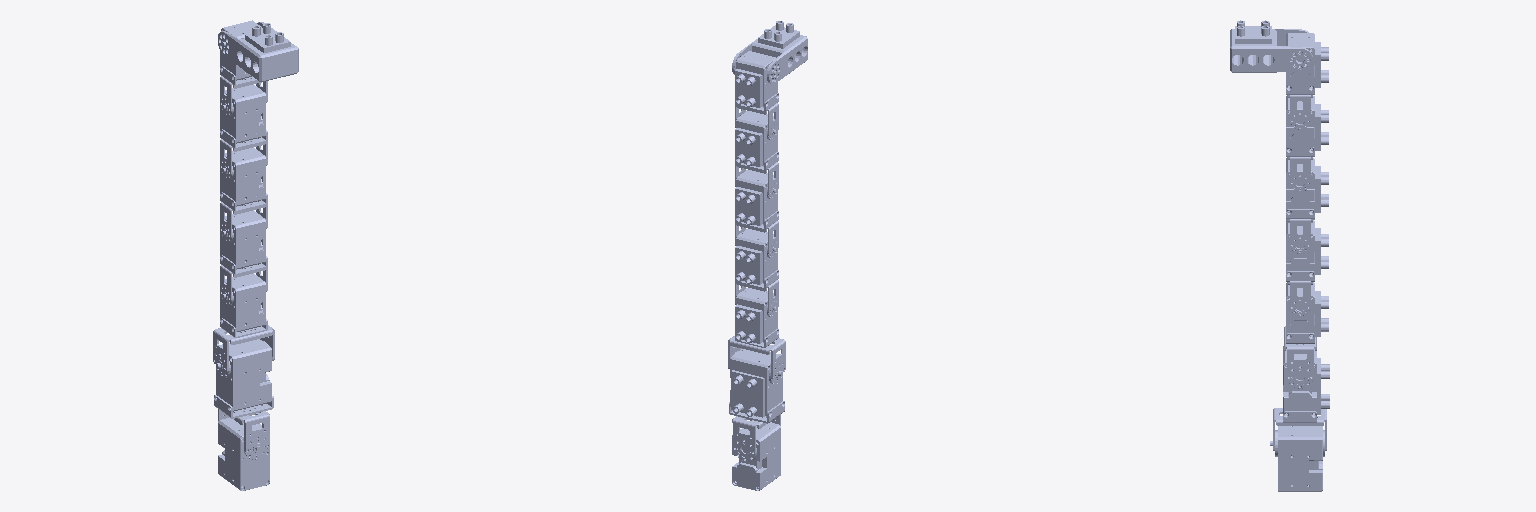
The robot description file, URDF, robot "Quadnake_Vertical_Leg":
<?xml version="1.0" encoding="utf-8"?>
<!-- This URDF was automatically created by SolidWorks to URDF Exporter! Originally created by [author] ([email redacted]) 
     Commit Version: 1.5.1-0-g916b5db  Build Version: 1.5.7152.31018
     For more information, please see http://wiki.ros.org/sw_urdf_exporter -->
<robot
  name="Quadnake_Vertical_Leg">
  <link
    name="base_link">
    <inertial>
      <origin
        xyz="-0.0057706 0.21609 0.054307"
        rpy="0 0 0" />
      <mass
        value="0.52162" />
      <inertia
        ixx="0.013885"
        ixy="-4.1562E-06"
        ixz="2.4437E-07"
        iyy="0.00012457"
        iyz="6.6864E-05"
        izz="0.01389" />
    </inertial>
    <visual>
      <origin
        xyz="0 0 0"
        rpy="0 0 0" />
      <geometry>
        <mesh
          filename="package://Quadnake_Vertical_Leg/meshes/base_link.STL" />
      </geometry>
      <material
        name="">
        <color
          rgba="0.79216 0.81961 0.93333 1" />
      </material>
    </visual>
    <collision>
      <origin
        xyz="0 0 0"
        rpy="0 0 0" />
      <geometry>
        <mesh
          filename="package://Quadnake_Vertical_Leg/meshes/base_link.STL" />
      </geometry>
    </collision>
  </link>
  <link
    name="Link1">
    <inertial>
      <origin
        xyz="0.027707 -0.2055 -0.00026616"
        rpy="0 0 0" />
      <mass
        value="0.52162" />
      <inertia
        ixx="0.01389"
        ixy="-6.6864E-05"
        ixz="2.4437E-07"
        iyy="0.00012457"
        iyz="4.1562E-06"
        izz="0.013885" />
    </inertial>
    <visual>
      <origin
        xyz="0 0 0"
        rpy="0 0 0" />
      <geometry>
        <mesh
          filename="package://Quadnake_Vertical_Leg/meshes/Link1.STL" />
      </geometry>
      <material
        name="">
        <color
          rgba="0.79216 0.81961 0.93333 1" />
      </material>
    </visual>
    <collision>
      <origin
        xyz="0 0 0"
        rpy="0 0 0" />
      <geometry>
        <mesh
          filename="package://Quadnake_Vertical_Leg/meshes/Link1.STL" />
      </geometry>
    </collision>
  </link>
  <joint
    name="Joint1"
    type="continuous">
    <origin
      xyz="-0.0055044 -0.0266 0.010585"
      rpy="-1.5708 0 -1.5708" />
    <parent
      link="base_link" />
    <child
      link="Link1" />
    <axis
      xyz="1 0 0" />
  </joint>
  <link
    name="Link2">
    <inertial>
      <origin
        xyz="-0.0015429 -0.122 -0.00026616"
        rpy="0 0 0" />
      <mass
        value="0.52162" />
      <inertia
        ixx="0.01389"
        ixy="-6.6864E-05"
        ixz="2.4437E-07"
        iyy="0.00012457"
        iyz="4.1562E-06"
        izz="0.013885" />
    </inertial>
    <visual>
      <origin
        xyz="0 0 0"
        rpy="0 0 0" />
      <geometry>
        <mesh
          filename="package://Quadnake_Vertical_Leg/meshes/Link2.STL" />
      </geometry>
      <material
        name="">
        <color
          rgba="0.79216 0.81961 0.93333 1" />
      </material>
    </visual>
    <collision>
      <origin
        xyz="0 0 0"
        rpy="0 0 0" />
      <geometry>
        <mesh
          filename="package://Quadnake_Vertical_Leg/meshes/Link2.STL" />
      </geometry>
    </collision>
  </link>
  <joint
    name="Joint2"
    type="continuous">
    <origin
      xyz="0.02925 -0.0835 0"
      rpy="0 0 0" />
    <parent
      link="Link1" />
    <child
      link="Link2" />
    <axis
      xyz="0 0 1" />
  </joint>
  <link
    name="Link3">
    <inertial>
      <origin
        xyz="-0.0015429 -0.0495 -0.00026616"
        rpy="0 0 0" />
      <mass
        value="0.52162" />
      <inertia
        ixx="0.01389"
        ixy="-6.6864E-05"
        ixz="2.4437E-07"
        iyy="0.00012457"
        iyz="4.1562E-06"
        izz="0.013885" />
    </inertial>
    <visual>
      <origin
        xyz="0 0 0"
        rpy="0 0 0" />
      <geometry>
        <mesh
          filename="package://Quadnake_Vertical_Leg/meshes/Link3.STL" />
      </geometry>
      <material
        name="">
        <color
          rgba="0.79216 0.81961 0.93333 1" />
      </material>
    </visual>
    <collision>
      <origin
        xyz="0 0 0"
        rpy="0 0 0" />
      <geometry>
        <mesh
          filename="package://Quadnake_Vertical_Leg/meshes/Link3.STL" />
      </geometry>
    </collision>
  </link>
  <joint
    name="Joint3"
    type="continuous">
    <origin
      xyz="0 -0.0725 0"
      rpy="0 0 0" />
    <parent
      link="Link2" />
    <child
      link="Link3" />
    <axis
      xyz="0 0 1" />
  </joint>
  <link
    name="Link4">
    <inertial>
      <origin
        xyz="-0.0015429 0.0175 -0.00026616"
        rpy="0 0 0" />
      <mass
        value="0.52162" />
      <inertia
        ixx="0.01389"
        ixy="-6.6864E-05"
        ixz="2.4437E-07"
        iyy="0.00012457"
        iyz="4.1562E-06"
        izz="0.013885" />
    </inertial>
    <visual>
      <origin
        xyz="0 0 0"
        rpy="0 0 0" />
      <geometry>
        <mesh
          filename="package://Quadnake_Vertical_Leg/meshes/Link4.STL" />
      </geometry>
      <material
        name="">
        <color
          rgba="0.79216 0.81961 0.93333 1" />
      </material>
    </visual>
    <collision>
      <origin
        xyz="0 0 0"
        rpy="0 0 0" />
      <geometry>
        <mesh
          filename="package://Quadnake_Vertical_Leg/meshes/Link4.STL" />
      </geometry>
    </collision>
  </link>
  <joint
    name="Joint4"
    type="continuous">
    <origin
      xyz="0 -0.067 0"
      rpy="0 0 0" />
    <parent
      link="Link3" />
    <child
      link="Link4" />
    <axis
      xyz="0 0 1" />
  </joint>
  <link
    name="Link5">
    <inertial>
      <origin
        xyz="-0.0015429 0.0845 -0.00026616"
        rpy="0 0 0" />
      <mass
        value="0.52162" />
      <inertia
        ixx="0.01389"
        ixy="-6.6864E-05"
        ixz="2.4437E-07"
        iyy="0.00012457"
        iyz="4.1562E-06"
        izz="0.013885" />
    </inertial>
    <visual>
      <origin
        xyz="0 0 0"
        rpy="0 0 0" />
      <geometry>
        <mesh
          filename="package://Quadnake_Vertical_Leg/meshes/Link5.STL" />
      </geometry>
      <material
        name="">
        <color
          rgba="0.79216 0.81961 0.93333 1" />
      </material>
    </visual>
    <collision>
      <origin
        xyz="0 0 0"
        rpy="0 0 0" />
      <geometry>
        <mesh
          filename="package://Quadnake_Vertical_Leg/meshes/Link5.STL" />
      </geometry>
    </collision>
  </link>
  <joint
    name="Joint5"
    type="continuous">
    <origin
      xyz="0 -0.067 0"
      rpy="0 0 0" />
    <parent
      link="Link4" />
    <child
      link="Link5" />
    <axis
      xyz="0 0 1" />
  </joint>
  <link
    name="Link6">
    <inertial>
      <origin
        xyz="-0.0015429 0.1515 -0.00026616"
        rpy="0 0 0" />
      <mass
        value="0.52162" />
      <inertia
        ixx="0.01389"
        ixy="-6.6864E-05"
        ixz="2.4437E-07"
        iyy="0.00012457"
        iyz="4.1562E-06"
        izz="0.013885" />
    </inertial>
    <visual>
      <origin
        xyz="0 0 0"
        rpy="0 0 0" />
      <geometry>
        <mesh
          filename="package://Quadnake_Vertical_Leg/meshes/Link6.STL" />
      </geometry>
      <material
        name="">
        <color
          rgba="0.79216 0.81961 0.93333 1" />
      </material>
    </visual>
    <collision>
      <origin
        xyz="0 0 0"
        rpy="0 0 0" />
      <geometry>
        <mesh
          filename="package://Quadnake_Vertical_Leg/meshes/Link6.STL" />
      </geometry>
    </collision>
  </link>
  <joint
    name="Joint6"
    type="continuous">
    <origin
      xyz="0 -0.067 0"
      rpy="0 0 0" />
    <parent
      link="Link5" />
    <child
      link="Link6" />
    <axis
      xyz="0 0 1" />
  </joint>
  <link
    name="Link7">
    <inertial>
      <origin
        xyz="-0.2185 -0.0015429 -0.00026616"
        rpy="0 0 0" />
      <mass
        value="0.52162" />
      <inertia
        ixx="0.00012457"
        ixy="6.6864E-05"
        ixz="-4.1562E-06"
        iyy="0.01389"
        iyz="2.4437E-07"
        izz="0.013885" />
    </inertial>
    <visual>
      <origin
        xyz="0 0 0"
        rpy="0 0 0" />
      <geometry>
        <mesh
          filename="package://Quadnake_Vertical_Leg/meshes/Link7.STL" />
      </geometry>
      <material
        name="">
        <color
          rgba="0.79216 0.81961 0.93333 1" />
      </material>
    </visual>
    <collision>
      <origin
        xyz="0 0 0"
        rpy="0 0 0" />
      <geometry>
        <mesh
          filename="package://Quadnake_Vertical_Leg/meshes/Link7.STL" />
      </geometry>
    </collision>
  </link>
  <joint
    name="Joint7"
    type="continuous">
    <origin
      xyz="0 -0.067 0"
      rpy="0 0 0" />
    <parent
      link="Link6" />
    <child
      link="Link7" />
    <axis
      xyz="0 0 1" />
  </joint>
</robot>

--- Render facts (derived) ---
3 views of the same robot in one strip: view 1: azimuth 30°, elevation 25°; view 2: azimuth 150°, elevation 25°; view 3: azimuth 270°, elevation 25° (orthographic).
Robot: Quadnake_Vertical_Leg — 8 links, 7 joints (7 continuous); root link base_link; default pose: all joints at 0.
Visible links, largest first — view 1: Link1, Link2, Link7, Link5, Link3, Link4, base_link, Link6; view 2: Link1, Link2, Link5, Link3, Link4, Link6, base_link, Link7; view 3: Link7, base_link, Link1, Link2, Link4, Link3, Link5, Link6.
Link boxes in pixels (<box>): Link1: <box>214,339,273,452</box>; Link2: <box>213,273,274,371</box>; Link7: <box>218,22,298,81</box>; Link5: <box>220,84,267,174</box>; Link3: <box>220,210,267,300</box>; Link4: <box>220,147,267,237</box>; base_link: <box>218,417,269,490</box>; Link6: <box>220,20,267,111</box>; Link1: <box>729,349,784,454</box>; Link2: <box>728,288,785,379</box>; Link5: <box>735,111,778,195</box>; Link3: <box>735,229,778,312</box>; Link4: <box>735,170,778,254</box>; Link6: <box>735,51,778,136</box>; base_link: <box>732,422,780,490</box>; Link7: <box>732,21,807,84</box>; Link7: <box>1230,20,1312,72</box>; base_link: <box>1270,426,1324,491</box>; Link1: <box>1273,346,1329,450</box>; Link2: <box>1284,282,1328,379</box>; Link4: <box>1286,157,1328,247</box>; Link3: <box>1286,220,1328,309</box>; Link5: <box>1286,95,1328,185</box>; Link6: <box>1286,33,1328,123</box>.
Bounding box of the posed robot: 0.0563 × 0.0983 × 0.4965 m (x, y, z).
8 mesh visuals loaded from 8 distinct referenced files (8 binary STL).